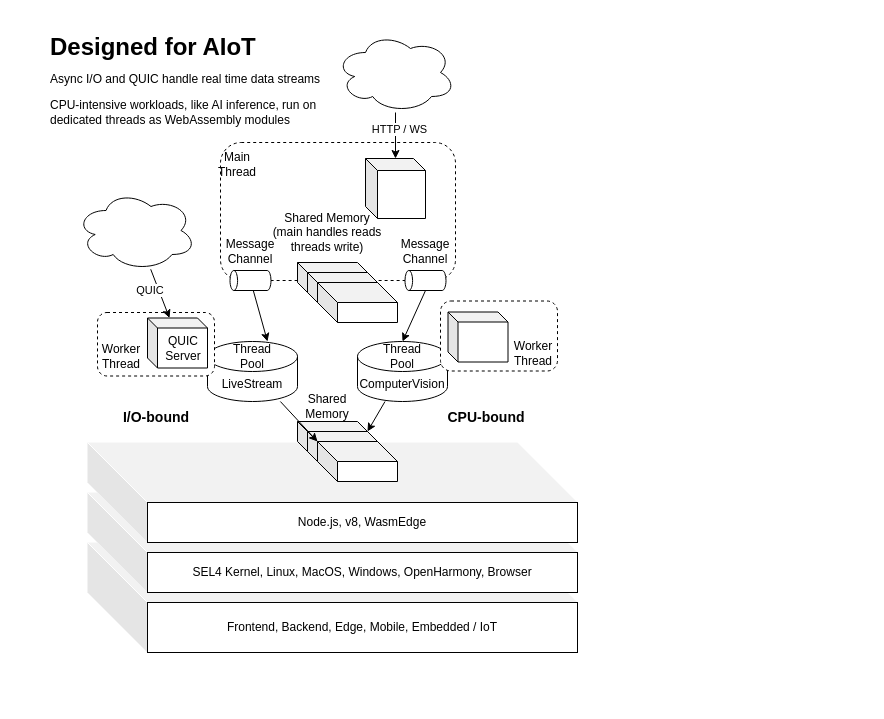
Some shapes in this 884 by 719 pixel diagram are drawn without their labels. The shapes that lost their labels are listed below. From the top down, each one's centre as x and y in pixels, then its label:
the point at 395,188: HTTP Server
the point at 135,230: CCTV WebRTC NDI
the point at 477,336: Wasm Module
